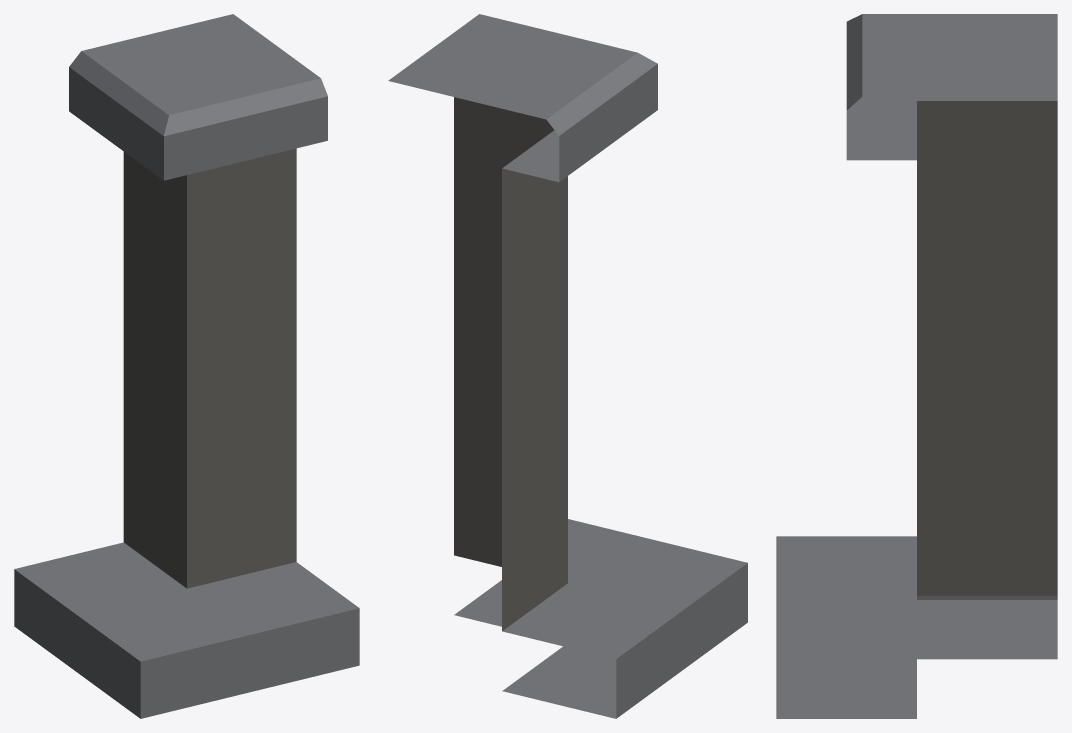
Rendered from SM_Roof_Pillar_Out.fbx.
3 renders of one model, left to right at view 1: azimuth 30°, elevation 25°; view 2: azimuth 150°, elevation 25°; view 3: azimuth 270°, elevation 25°, orthographic. The views are drawn at different scales.
Visible parts, largest first — view 1: SM_Roof_Pillar; view 2: SM_Roof_Pillar; view 3: SM_Roof_Pillar.
Part boxes in pixels (box(x1,y1,x2,y2)): SM_Roof_Pillar: box(14, 14, 359, 718); SM_Roof_Pillar: box(388, 14, 747, 718); SM_Roof_Pillar: box(776, 14, 1057, 718).
Bounding box in the file's own units: 40 × 97.55 × 40.
